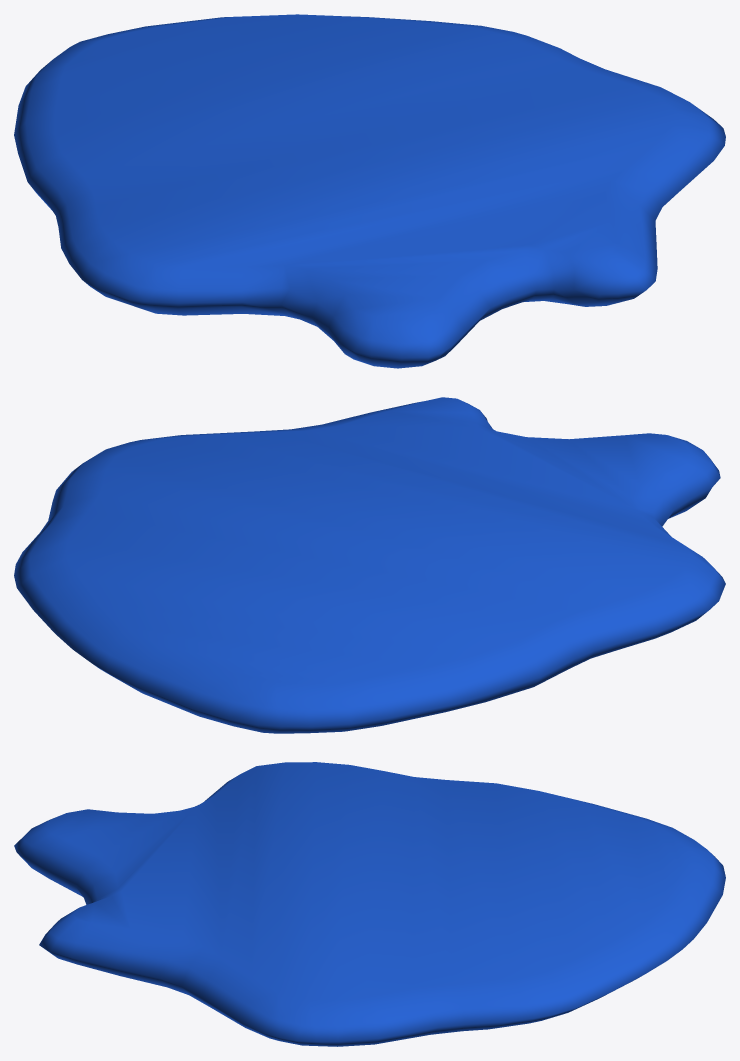
The model's file is Prop_Moss_4.fbx.
3 views of the same model, one above another, from view 1: azimuth 30°, elevation 25°; view 2: azimuth 150°, elevation 25°; view 3: azimuth 270°, elevation 25° (orthographic). The views are drawn at different scales.
Visible parts, largest first — view 1: moss_006; view 2: moss_006; view 3: moss_006.
Part boxes in pixels (box(x1,y1,x2,y2)): moss_006: box(14, 14, 725, 368); moss_006: box(14, 397, 725, 733); moss_006: box(14, 762, 725, 1046).
Bounding box in the file's own units: 1095 × 89.72 × 1204.
